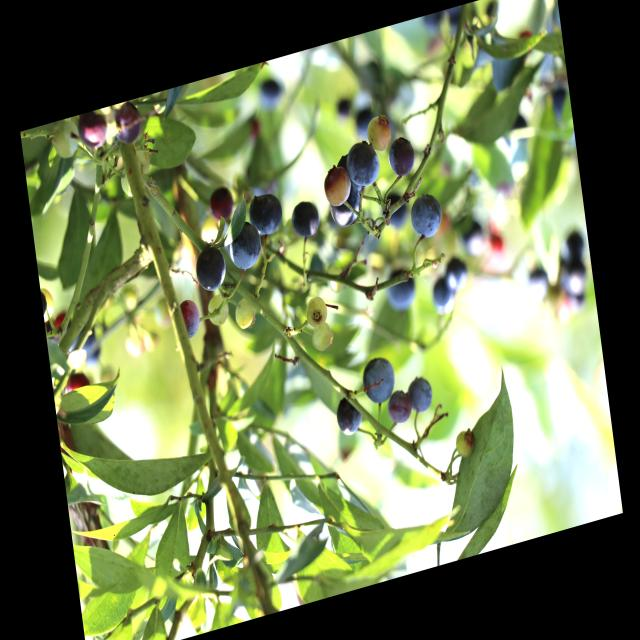blueberry: (340, 134, 384, 197), (224, 218, 266, 278), (361, 352, 399, 409), (382, 127, 419, 184), (248, 187, 286, 242), (288, 195, 325, 248), (193, 243, 229, 297), (408, 190, 444, 244), (332, 392, 367, 439), (330, 186, 364, 234), (75, 110, 112, 154), (388, 265, 420, 312), (111, 102, 143, 148), (406, 373, 436, 418), (173, 294, 201, 342), (429, 274, 459, 318), (384, 388, 414, 428), (560, 258, 590, 296), (444, 254, 469, 292)
blueberry-halfripe: (320, 161, 354, 212), (206, 183, 237, 226), (366, 109, 396, 153)
blueberry-unripe: (204, 290, 232, 330), (303, 293, 332, 331), (232, 296, 258, 330), (309, 323, 335, 354)
